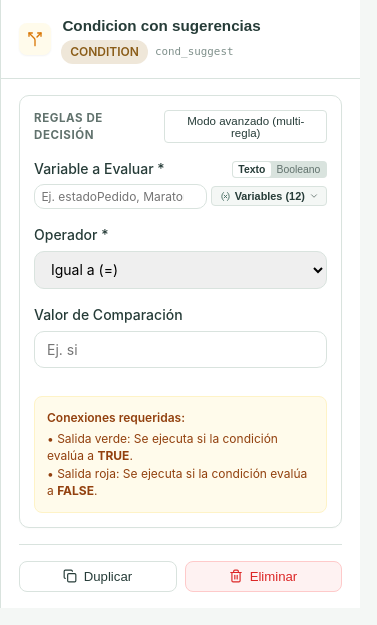
PropertiesPanel › Boolean Variables & Conditions UX ergonomics › displays suggestions for variables defined in previous nodes and contact variables
This screenshot has width=377, height=625.
Click the button with test id "btn-variable-suggestions-single-rule" at (269, 196), box x1=212 y1=186 x2=327 y2=206
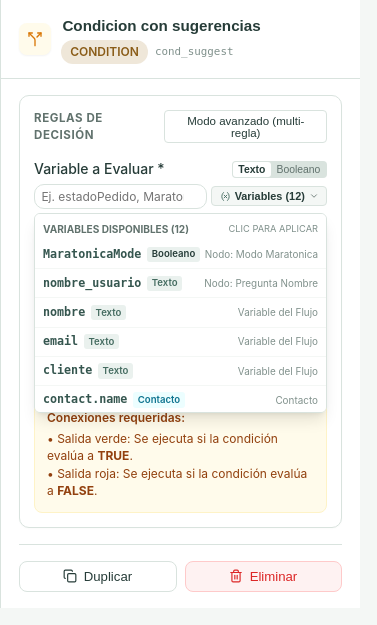
Now the button with test id "suggestion-option-MaratonicaMode" is shown, box x1=35 y1=240 x2=326 y2=269
Now the button with test id "suggestion-option-nombre_usuario" is shown, box x1=35 y1=269 x2=326 y2=298
Now the button with test id "suggestion-option-contact.name" is shown, box x1=35 y1=386 x2=326 y2=413
